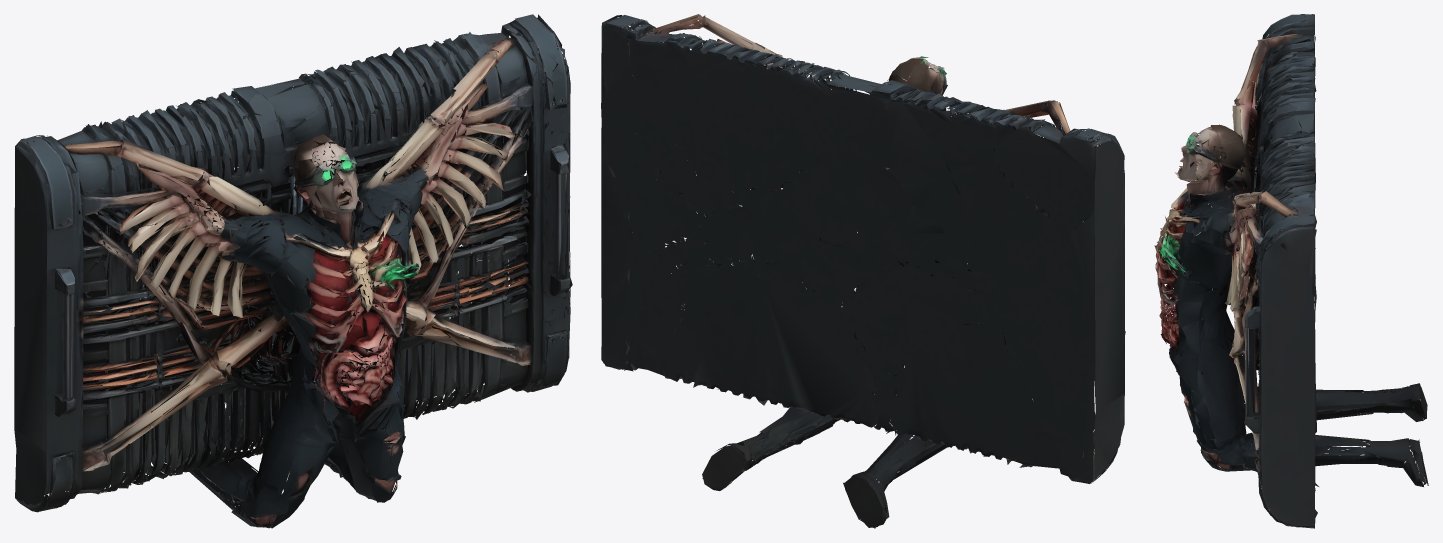
The model's file is hive_vivisected_engineer.glb.
3 views of the same model, side by side, from view 1: azimuth 30°, elevation 25°; view 2: azimuth 150°, elevation 25°; view 3: azimuth 270°, elevation 25° (orthographic). The views are drawn at different scales.
Visible parts, largest first — view 1: node_0; view 2: node_0; view 3: node_0.
Boxes of the visible parts, left/top/right/bottom form: node_0: left=14, top=14, right=572, bottom=528; node_0: left=601, top=14, right=1125, bottom=528; node_0: left=1154, top=14, right=1428, bottom=528.
Size of the model in its own units: 0.9804 by 0.7293 by 0.5289.
1 material, 1 textured.
